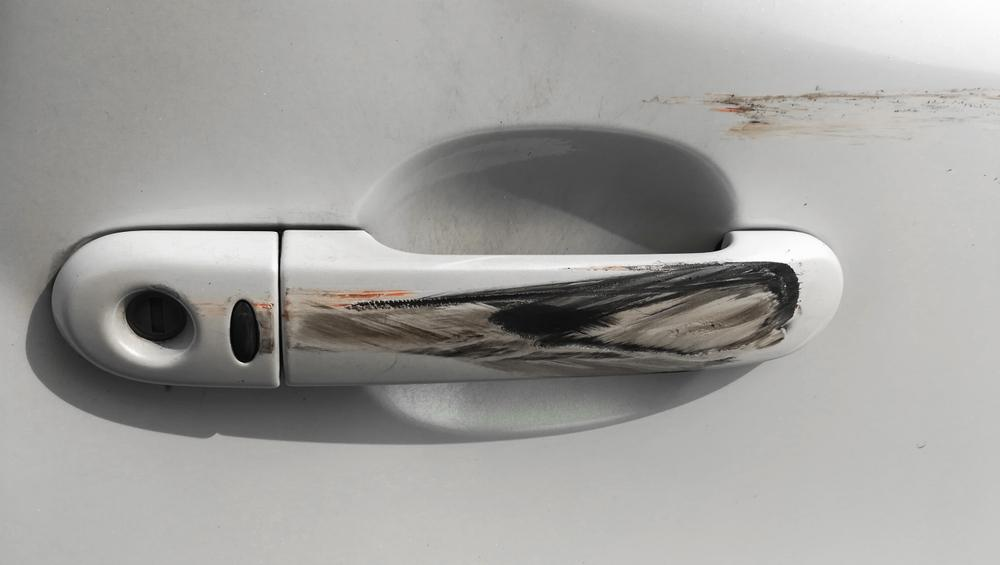scratch: (252, 256, 805, 376), (698, 78, 1000, 143)
